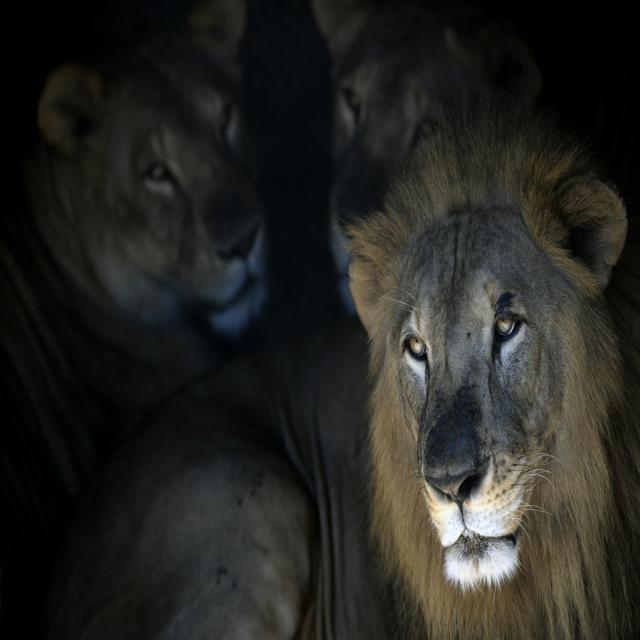Lion: (17, 149, 637, 634), (8, 6, 273, 624), (323, 8, 547, 311)
